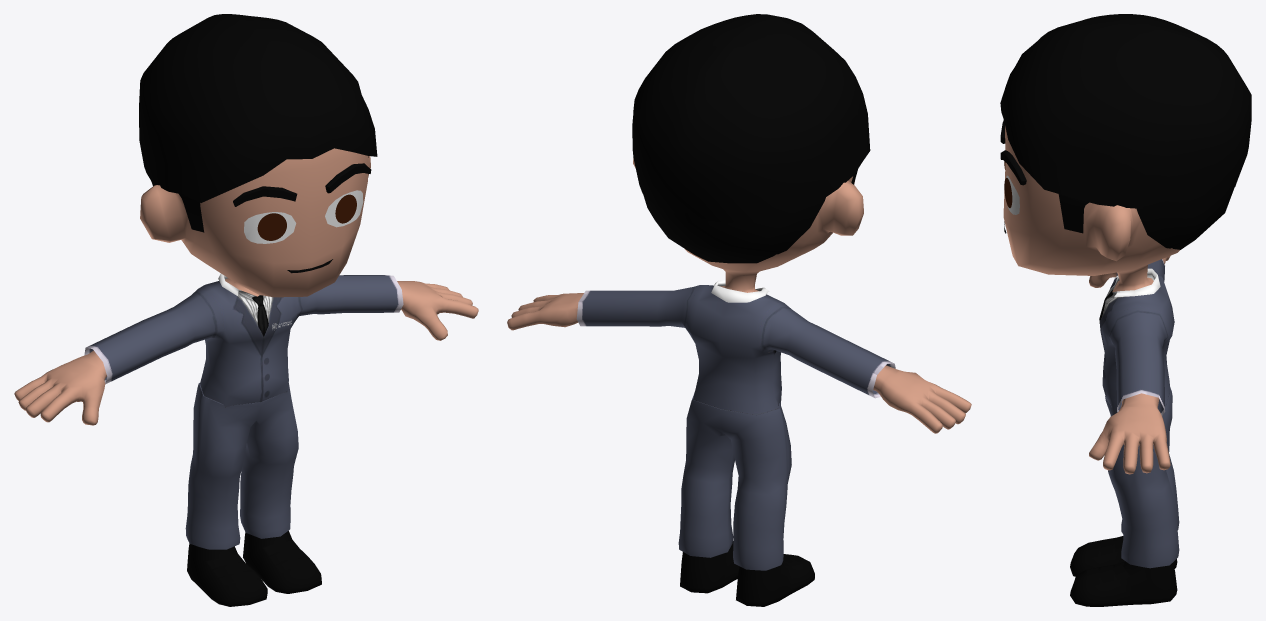
The model's file is Hombre_gala.fbx.
The picture shows the model from 3 angles, left to right: view 1: azimuth 30°, elevation 25°; view 2: azimuth 150°, elevation 25°; view 3: azimuth 270°, elevation 25°; orthographic projection.
Parts seen in each view (by area): view 1: Hombr_gala; view 2: Hombr_gala; view 3: Hombr_gala.
Part boxes in pixels (<box>): Hombr_gala: <box>14,14,478,606</box>; Hombr_gala: <box>507,14,971,606</box>; Hombr_gala: <box>1000,14,1251,606</box>.
Size of the model in its own units: 146 by 174 by 70.63.
5 materials, 1 textured.
